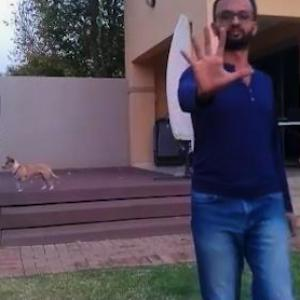follow_hand: (174, 22, 254, 100)
